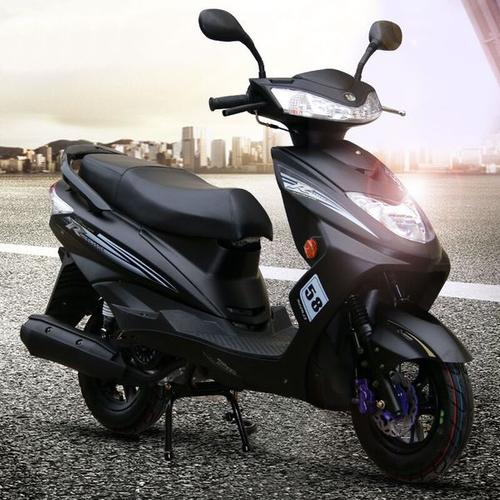motor: (38, 48, 475, 478)
